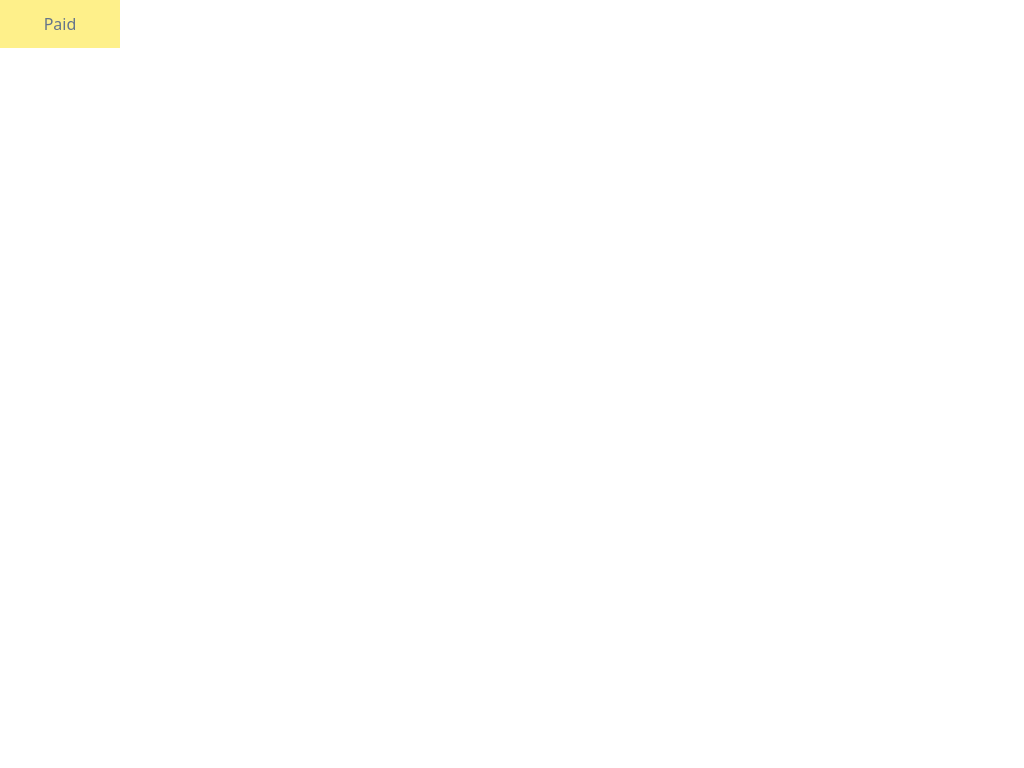
Test: lets the user select a driver and excludes legacy payments with an ambiguous driver name
The image size is (1024, 768).
Click the button "Paid".
click(60, 24)  # box [0,0,120,48]
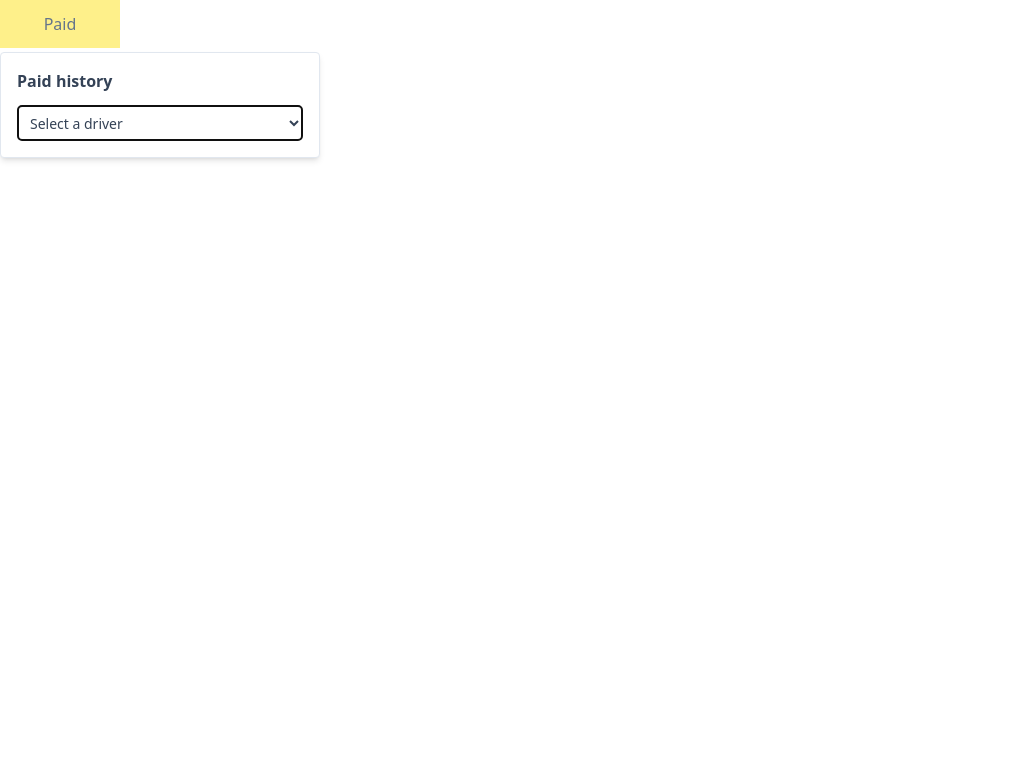
Select "Sam Driver (#1002)" in the dropdown named "Driver" at x=160, y=123, box [17,105,303,141]
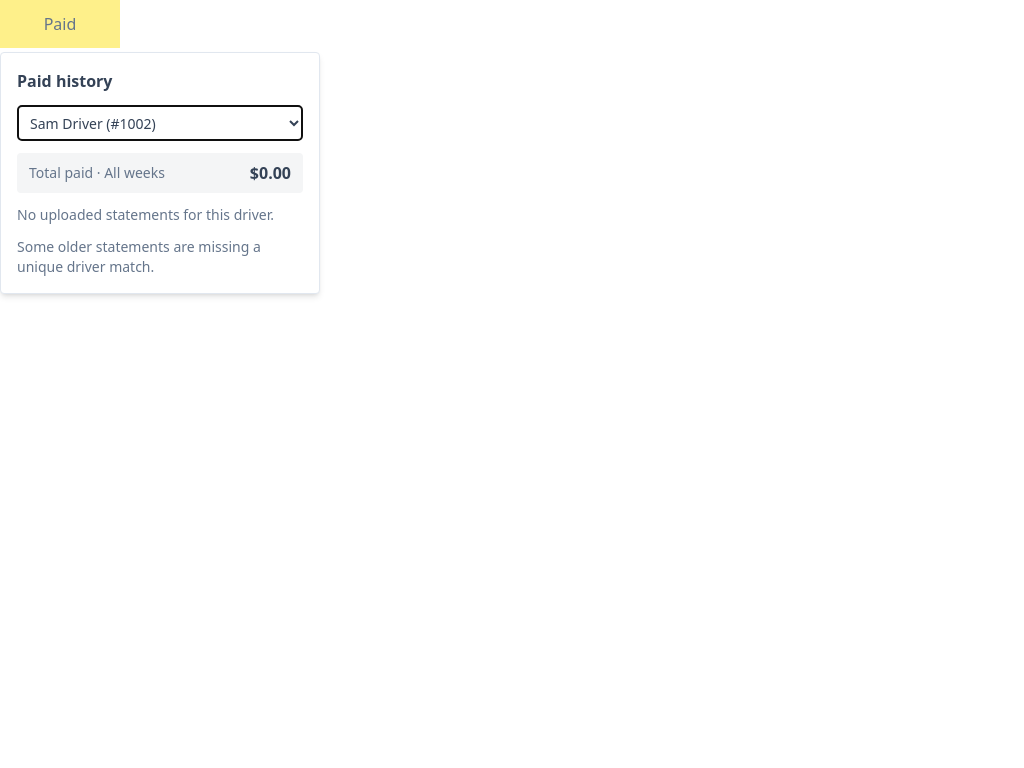
Check: the text "Some older statements are missing a unique driver match." is shown, box [17,237,303,277]
Check: the text "$0.00" is shown, box [250,161,291,185]
